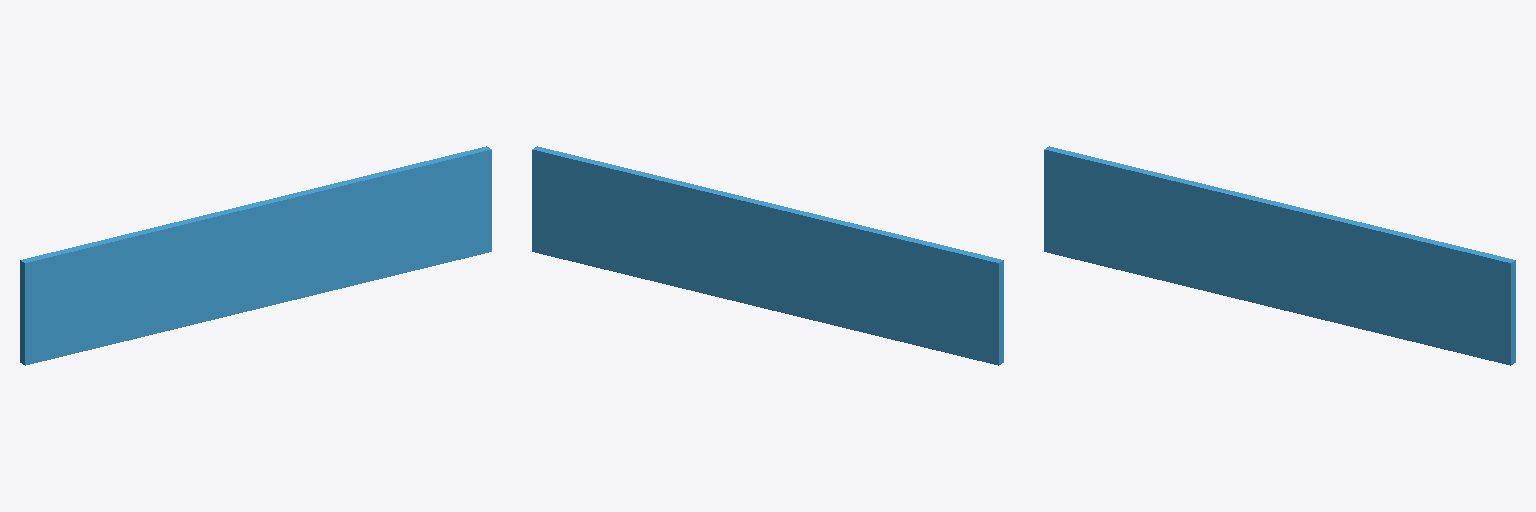
The robot description file, URDF, robot "hemis_74":
<?xml version="1.0" encoding="utf-8"?>    
    <robot name="hemis_74">
        <link name="hemis_74">    
            <fem>
                <origin rpy="0.0 0.0 0.0" xyz="0 0 0" />
                <density value="100" />
                <youngs value="9260"/>
                <poissons value="0.3" />
                <damping value="0.0" />
                <attachDistance value="0.04" />
                <tetmesh filename="[local-path]/sim_data/Custom/Custom_mesh/multi_hemis_10kPa/hemis_74.tet" />
                <scale value="0.5"/>
            </fem>
        </link>

        <link name="fix_frame">
            <visual>
                <origin xyz="0 -10.125868955357706 0.06293447767885285"/>              
                <geometry>
                    <box size="0.3 0.005 0.06293447767885285"/>
                </geometry>
            </visual>
            <collision>
                <origin xyz="0 -0.1258689553577057 0.06293447767885285"/>              
                <geometry>
                    <box size="0.3 0.005 0.06293447767885285"/>
                </geometry>
            </collision>
            <inertial>
                <mass value="500000"/>
                <inertia ixx="0.05" ixy="0.0" ixz="0.0" iyy="0.05" iyz="0.0" izz="0.05"/>
            </inertial>
        </link>
        
        <joint name = "attach" type = "fixed">
            <origin xyz = "0.0 0.0 0.0" rpy = "0 0 0"/>
            <parent link ="hemis_74"/>
            <child link = "fix_frame"/>
        </joint>  




    </robot>
    

--- Facts derived from the render (not from the file) ---
The picture shows the robot from 3 angles, left to right: view 1: azimuth 30°, elevation 25°; view 2: azimuth 150°, elevation 25°; view 3: azimuth 330°, elevation 25°; orthographic projection.
Model hemis_74 with 2 links and 1 joints (1 fixed), rooted at hemis_74, posed every joint at zero.
Visible links, largest first — view 1: fix_frame; view 2: fix_frame; view 3: fix_frame.
Link boxes in pixels (bbox=[...]): fix_frame: bbox=[20, 146, 491, 365]; fix_frame: bbox=[532, 146, 1003, 365]; fix_frame: bbox=[1044, 146, 1515, 365].
Size in the robot's own frame: 0.3 by 0.005 by 0.0629 metres.
Geometry: primitives only (box / cylinder / sphere), no mesh files.
